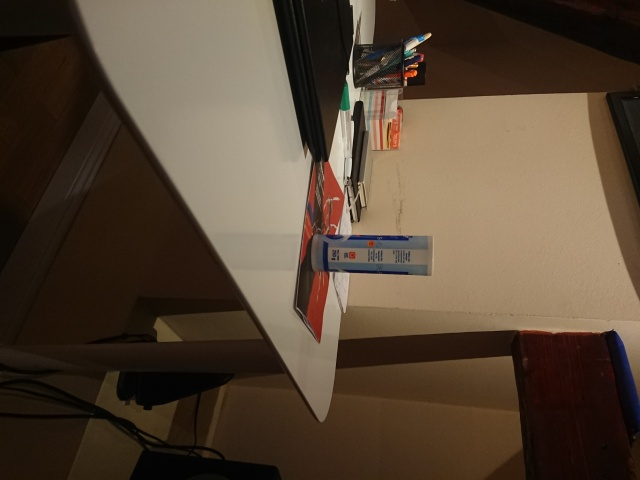Solana Pag Fine Sea Salt 250g: (308, 231, 438, 279)
